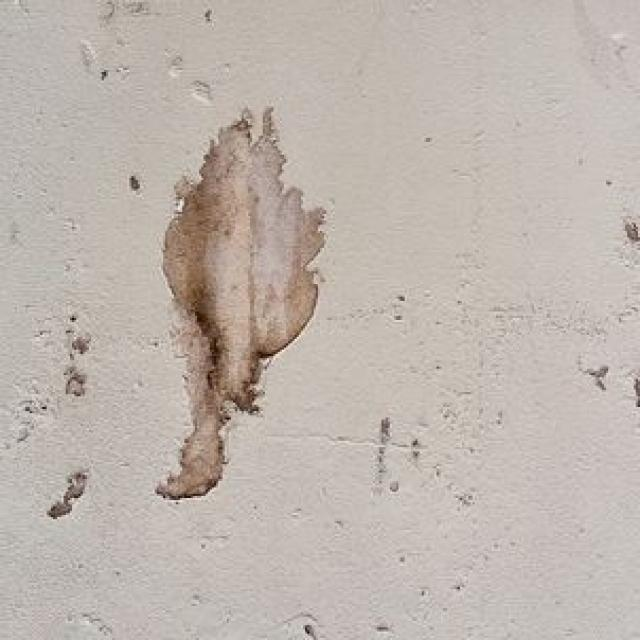wall_deterioration: (140, 102, 326, 512), (50, 320, 96, 394), (39, 464, 91, 524)
wall_stain: (261, 428, 465, 460), (167, 52, 224, 102), (372, 408, 392, 502), (72, 36, 100, 64)
